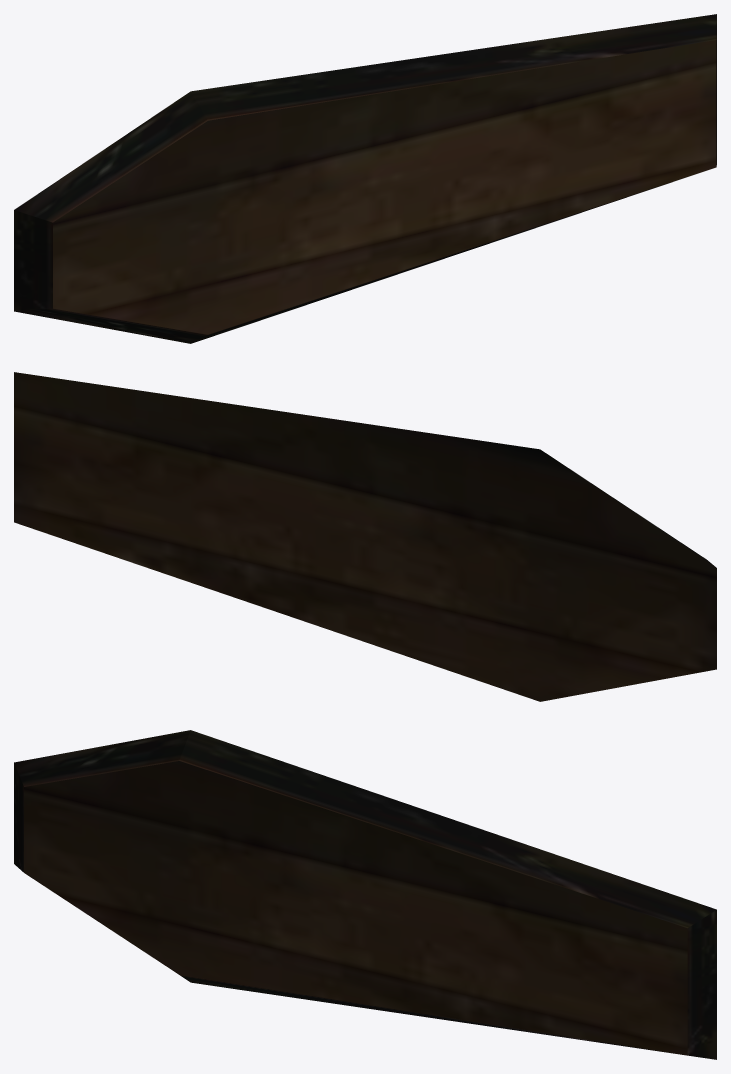
The picture shows the model from 3 angles, top to bottom: view 1: azimuth 30°, elevation 25°; view 2: azimuth 150°, elevation 25°; view 3: azimuth 330°, elevation 25°; orthographic projection.
Parts seen in each view (by area): view 1: model_Object22; view 2: model_Object22; view 3: model_Object22.
Boxes of the visible parts, x1,y1,x2,y2 form: model_Object22: [14, 14, 716, 343]; model_Object22: [14, 372, 716, 701]; model_Object22: [14, 730, 716, 1059].
Size of the model in its own units: 2.4 by 0.8234 by 0.0849.
1 material, 1 textured.
